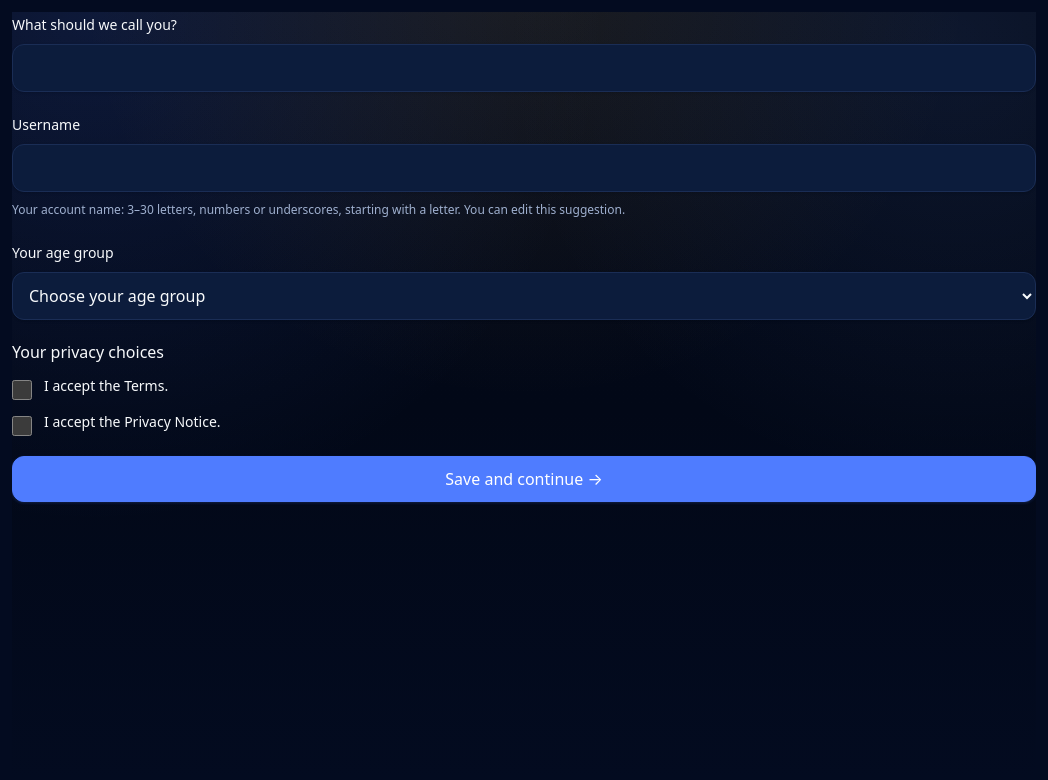
Test: shows guardian guidance without offering adult AI consent to a child
Select "13–15" in the dropdown labelled "Your age group": (524, 296) [12,272,1036,320]
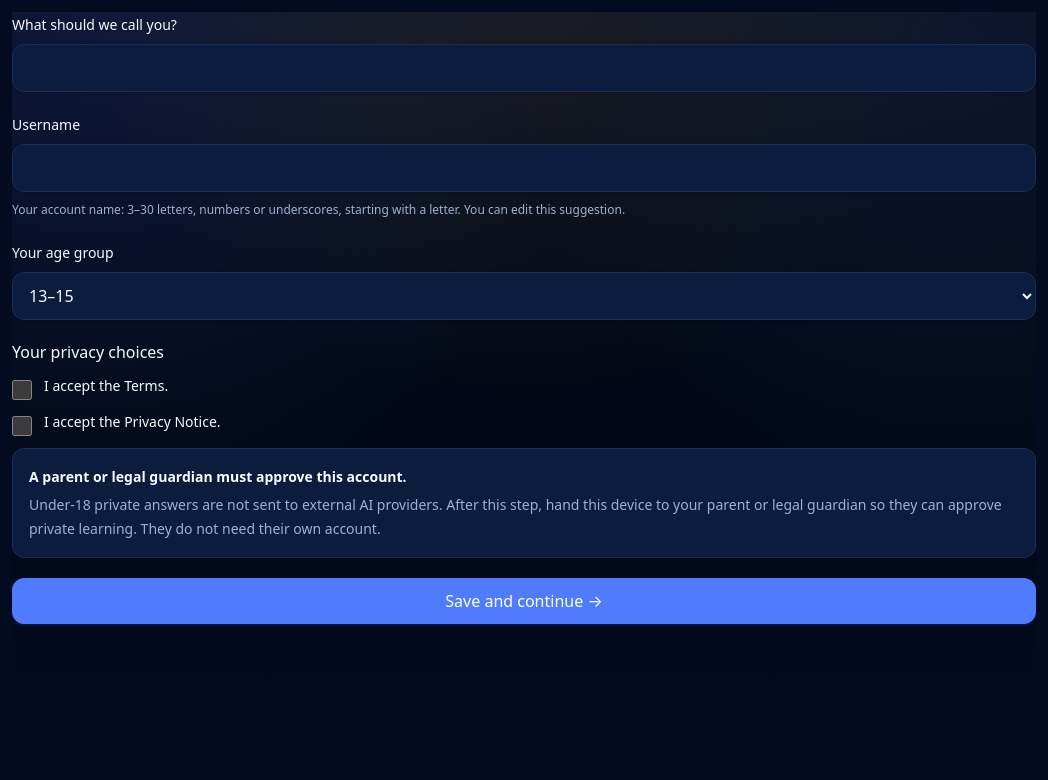
Result: the text "A parent or legal guardian must approve this account." is shown at [29,467,407,486]
